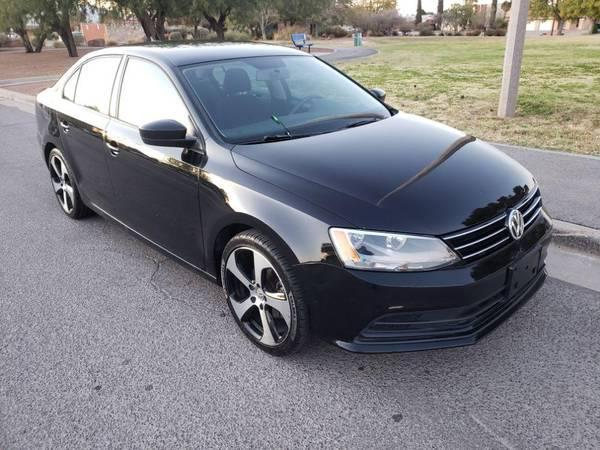Front_Bumper: (295, 207, 553, 352)
Front_Fender: (196, 138, 349, 283)
Front_Right_Door: (109, 121, 203, 274)
Front_Right_Window: (113, 59, 202, 153)
Front_Windshield: (181, 56, 396, 144)
Grille: (440, 181, 545, 263)
Hood: (233, 111, 538, 233)
Rear_Fender: (36, 90, 61, 158)
Rear_Right_Door: (56, 98, 113, 220)
Rear_Right_Window: (62, 54, 124, 117)
Right_Headlight: (327, 227, 465, 272)
Roof: (45, 40, 314, 145)
Wheel: (218, 231, 305, 353), (48, 153, 78, 218)
